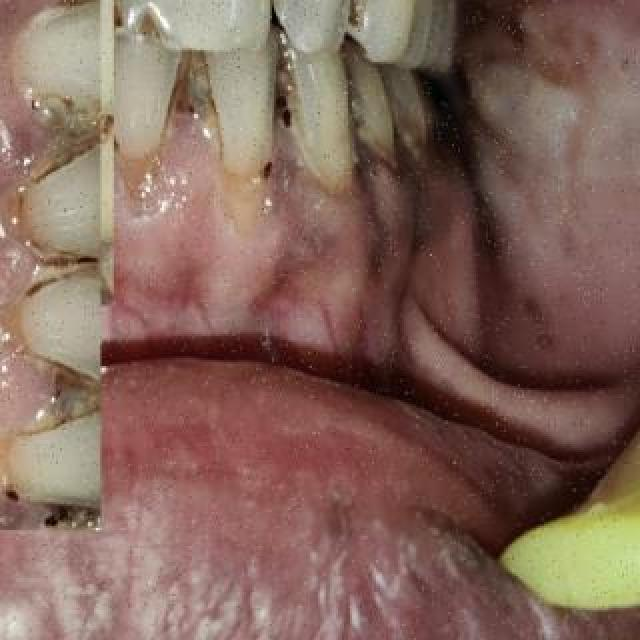calculus: (24, 89, 108, 203), (163, 38, 231, 150), (18, 375, 100, 451), (267, 51, 317, 161), (16, 240, 92, 310), (338, 68, 384, 182), (390, 89, 444, 183), (20, 488, 100, 534), (12, 0, 100, 34), (328, 0, 388, 30), (228, 0, 302, 24)
